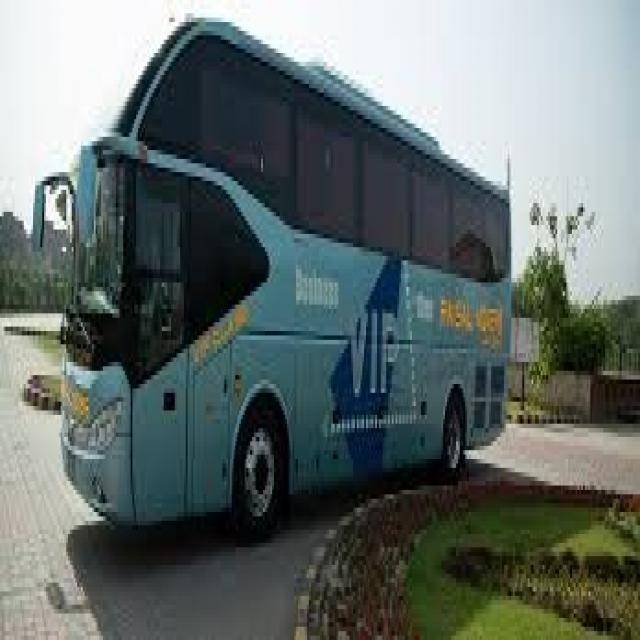bus: (40, 0, 522, 547)
